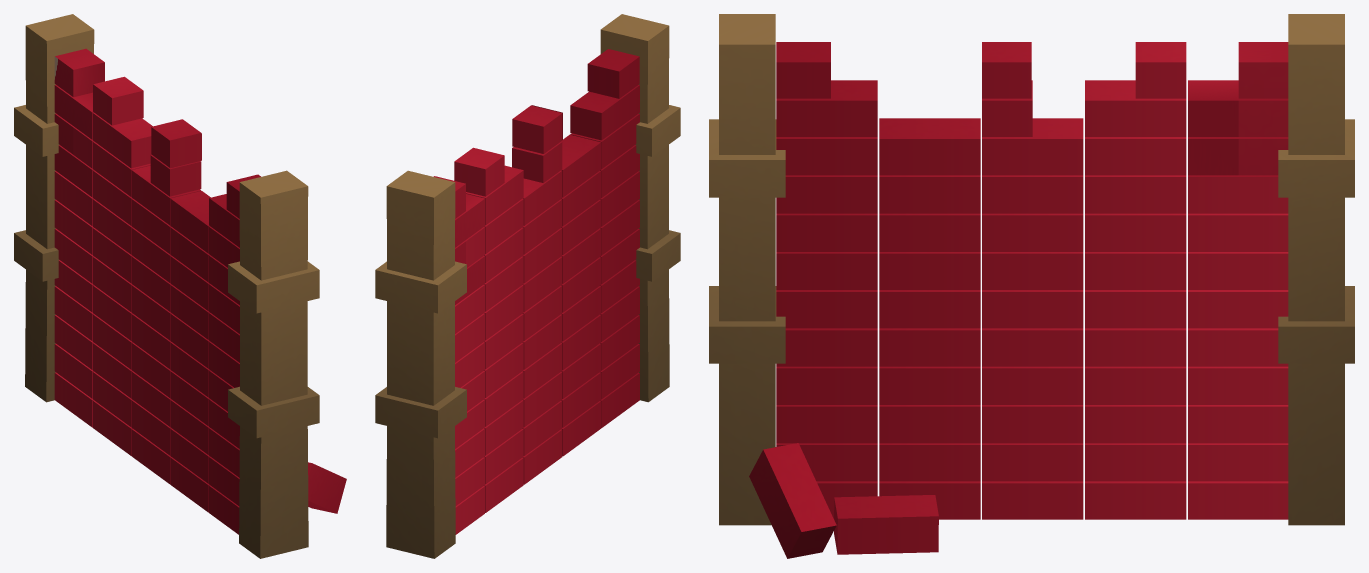
The model's file is SM_BrokenWall.fbx.
3 views of the same model, side by side, from view 1: azimuth 30°, elevation 25°; view 2: azimuth 150°, elevation 25°; view 3: azimuth 270°, elevation 25° (orthographic). The views are drawn at different scales.
Parts seen in each view (by area): view 1: Wall01; view 2: Wall01; view 3: Wall01.
Part boxes in pixels (<box>): Wall01: <box>14,14,346,558</box>; Wall01: <box>375,14,680,558</box>; Wall01: <box>709,14,1354,558</box>.
Size of the model in its own units: 53.05 by 147 by 179.
